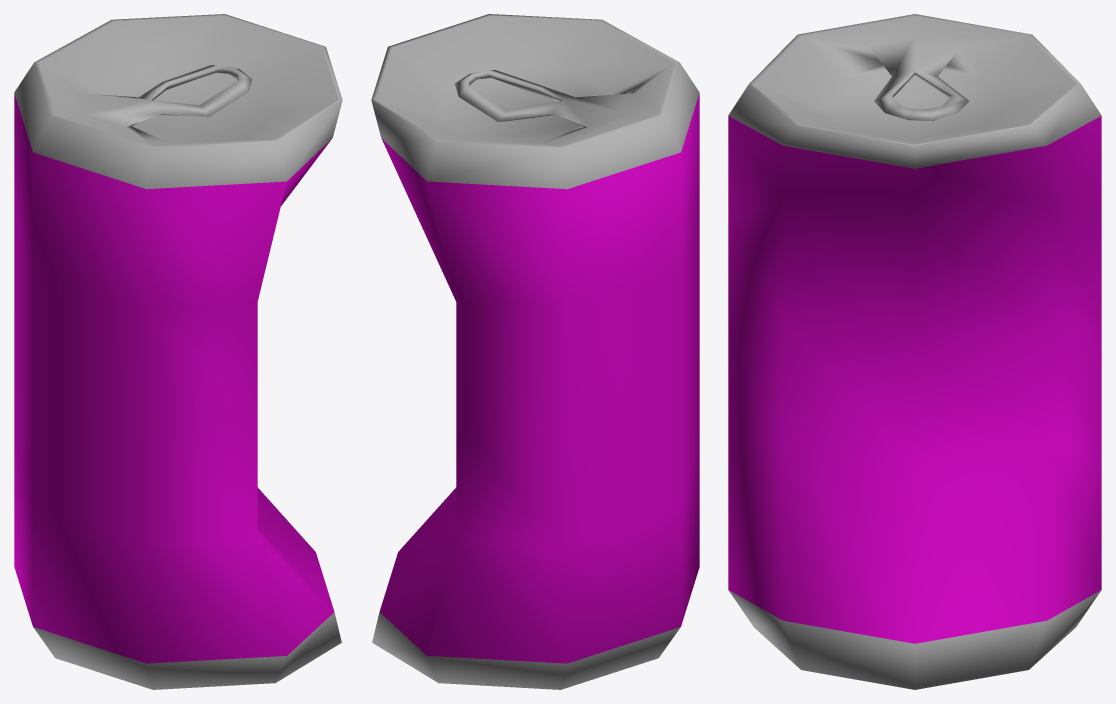
The model's file is can.glb.
The picture shows the model from 3 angles, left to right: view 1: azimuth 30°, elevation 25°; view 2: azimuth 150°, elevation 25°; view 3: azimuth 270°, elevation 25°; orthographic projection.
Parts seen in each view (by area): view 1: Can; view 2: Can; view 3: Can.
Part boxes in pixels (x1,y1,x2,y2): Can: [14, 14, 342, 689]; Can: [371, 14, 699, 689]; Can: [728, 14, 1101, 689].
Size of the model in its own units: 1.81 by 3.22 by 2.
